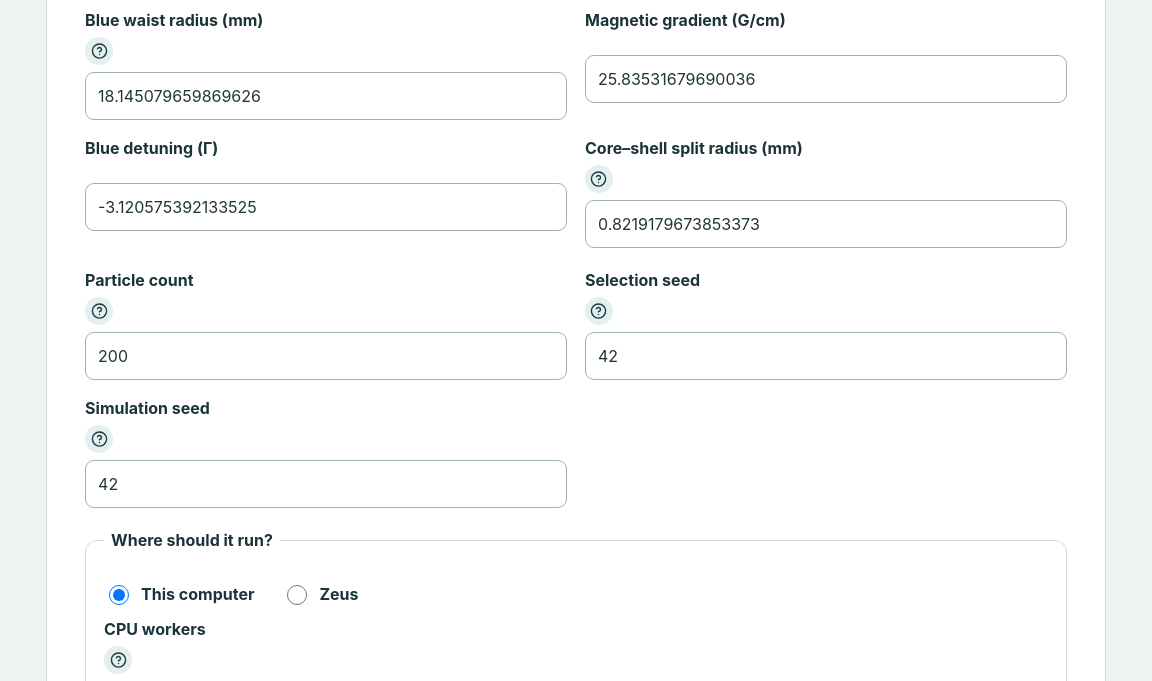
Test: does not copy a blank count into workers on a mode roundtrip
(page scrolled)
Clear the number field labelled "Particle count" at (326, 356), box [85, 332, 567, 380]
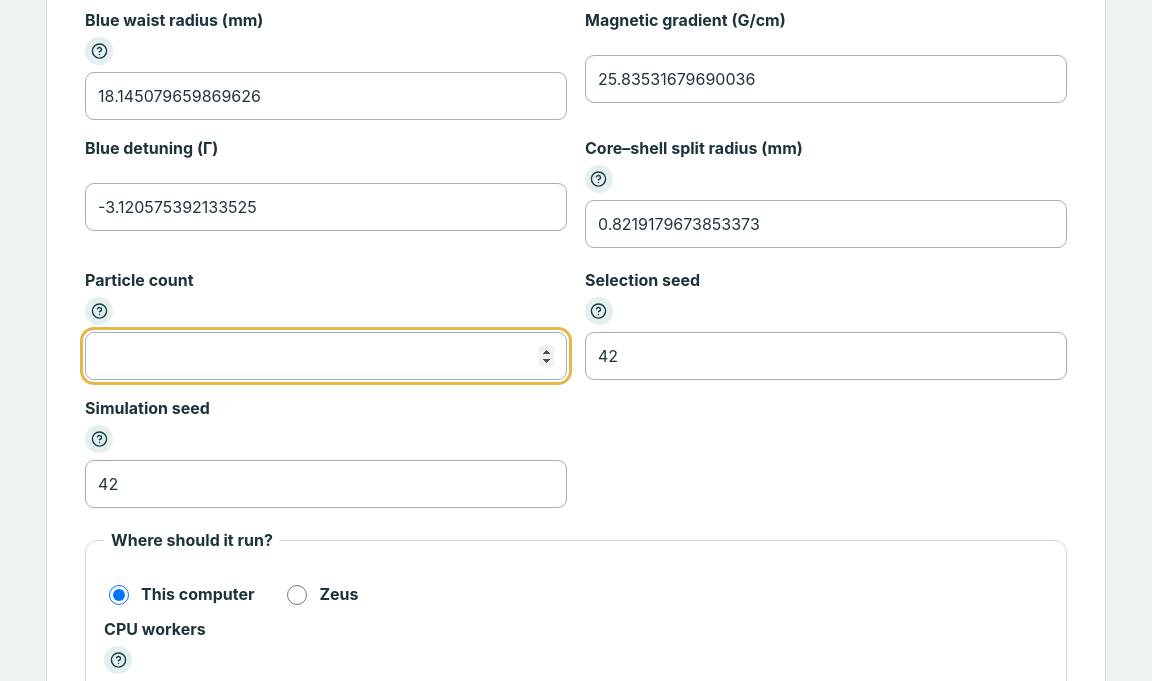
Click the radio button labelled "Zeus" at (297, 595), box [287, 571, 307, 619]
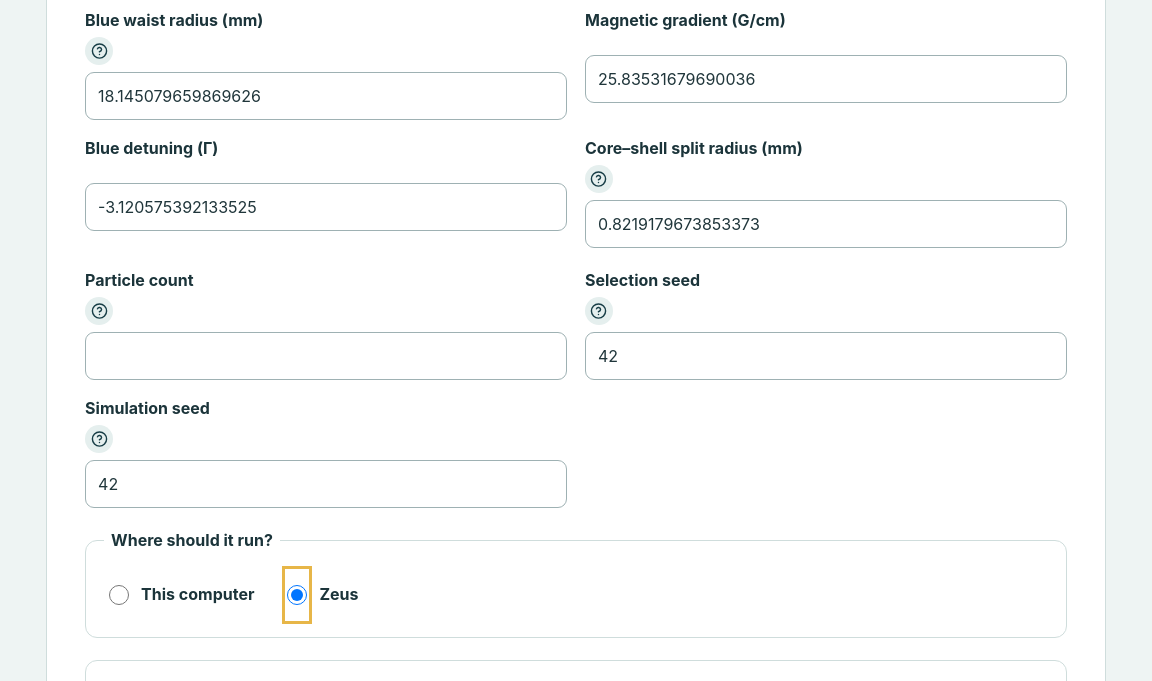
Click the radio button labelled "This computer" at (119, 595), box [109, 571, 129, 619]
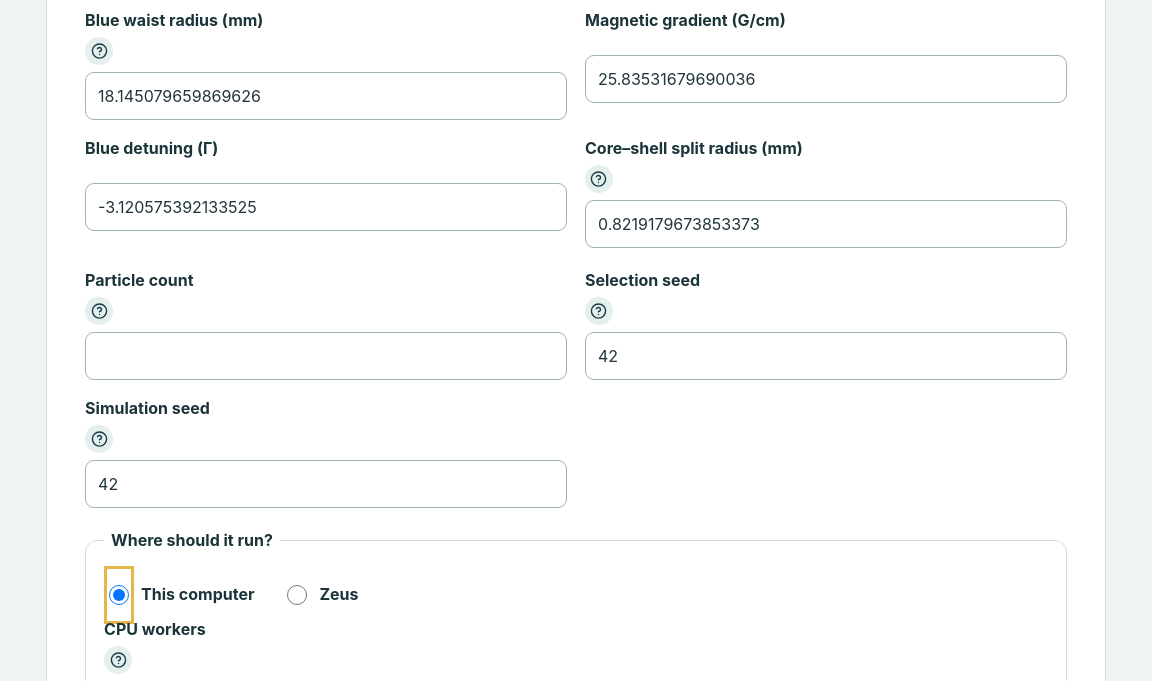
Type "1" into the number field labelled "Particle count" at (326, 356), box [85, 332, 567, 380]
(page scrolled)
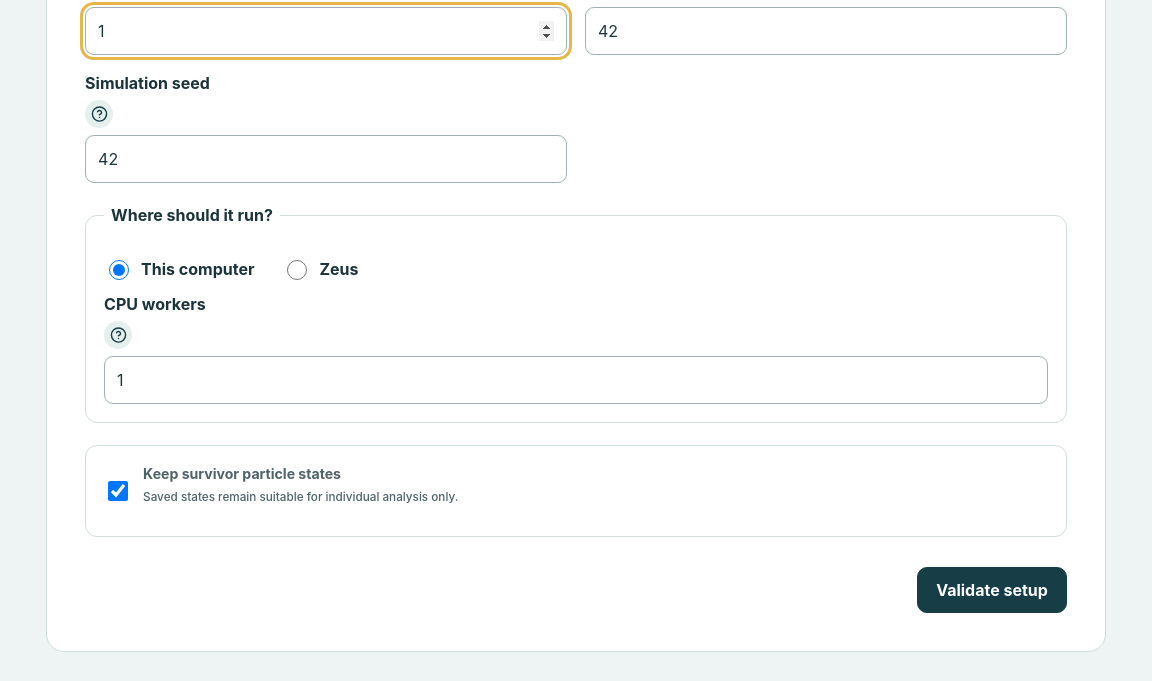
Result: the number field labelled "CPU workers" holds "1" at [104, 356, 1048, 404]
